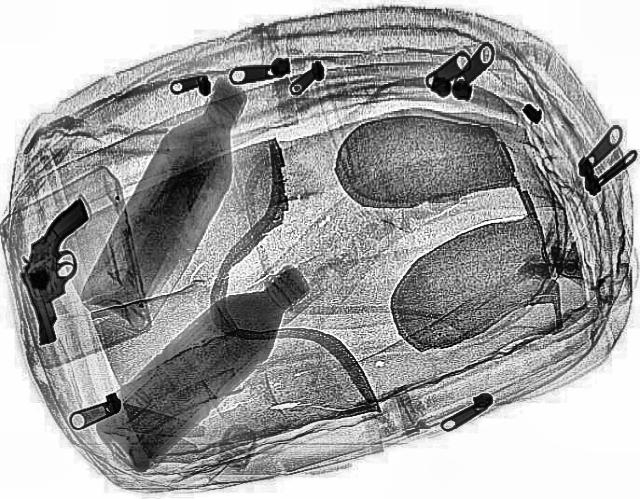Gun: (0, 198, 121, 344)
